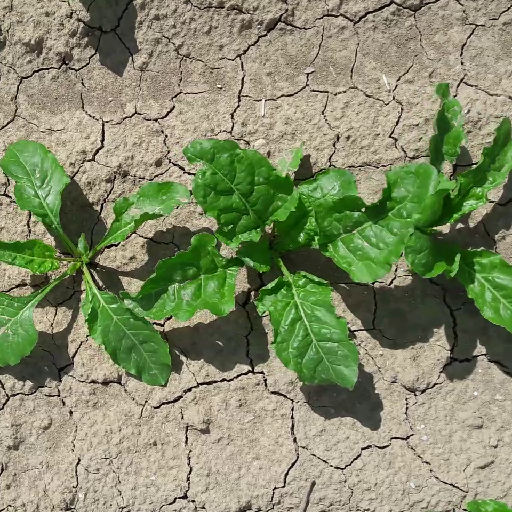sugarbeet: (122, 137, 436, 391), (4, 140, 195, 394), (384, 84, 512, 341)
